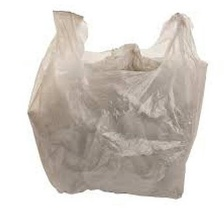plastic_bag: (23, 5, 212, 203)
